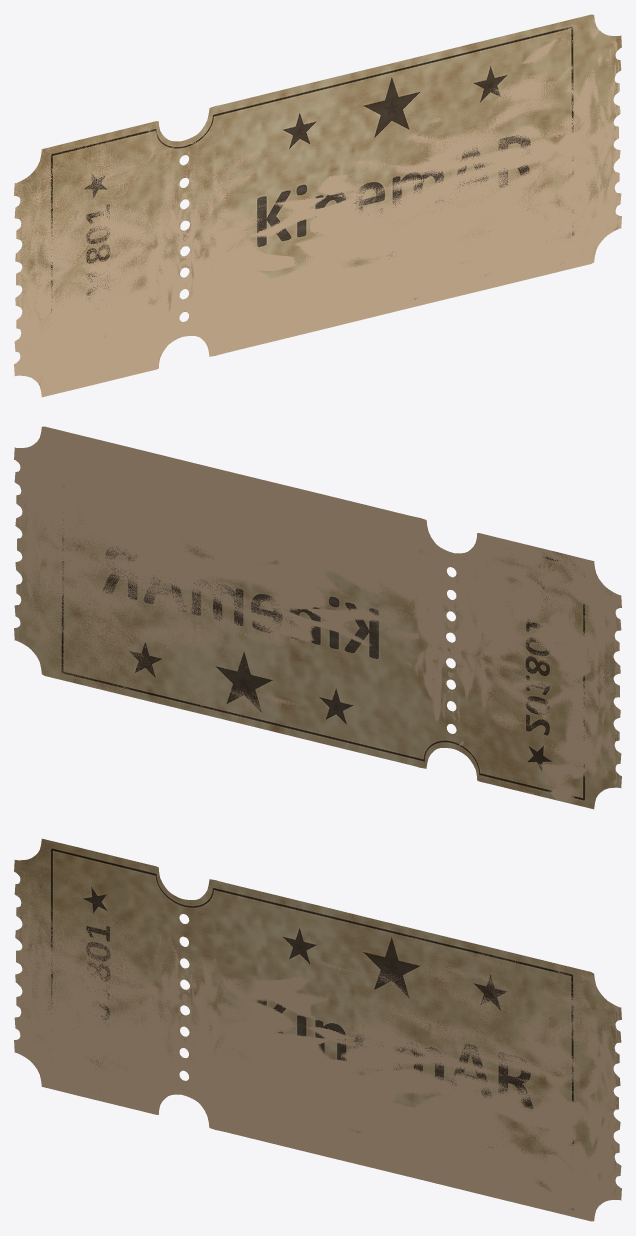
The model's file is ticket3d_end.dae.
3 views of the same model, one above another, from view 1: azimuth 30°, elevation 25°; view 2: azimuth 150°, elevation 25°; view 3: azimuth 330°, elevation 25° (orthographic).
Visible parts, largest first — view 1: Plane, Plane_Plane_002; view 2: Plane, Plane_Plane_002; view 3: Plane, Plane_Plane_002.
Boxes of the visible parts, bbox=[...] form: Plane: bbox=[14, 14, 621, 397]; Plane_Plane_002: bbox=[14, 14, 621, 388]; Plane: bbox=[14, 426, 621, 809]; Plane_Plane_002: bbox=[14, 434, 621, 808]; Plane: bbox=[14, 838, 621, 1221]; Plane_Plane_002: bbox=[14, 839, 621, 1214].
Size of the model in its own units: 6.55 by 4.19e-07 by 2.57.
Materials: 2 (1 with a texture image).
